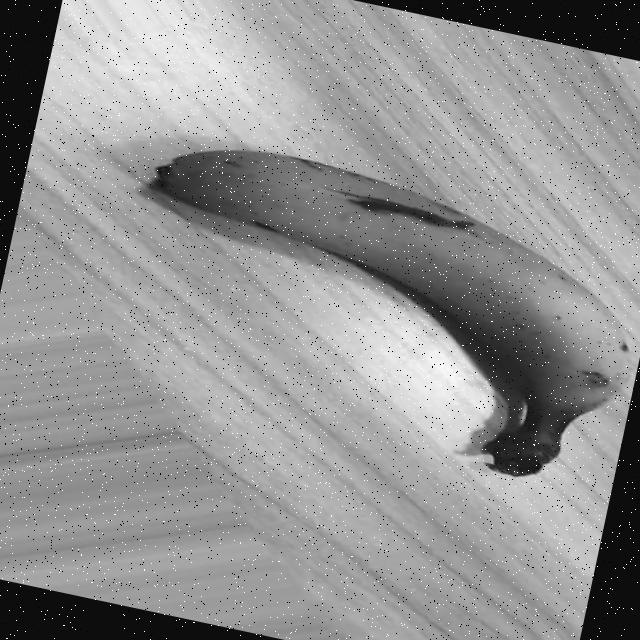Unripe: (105, 129, 640, 496)
